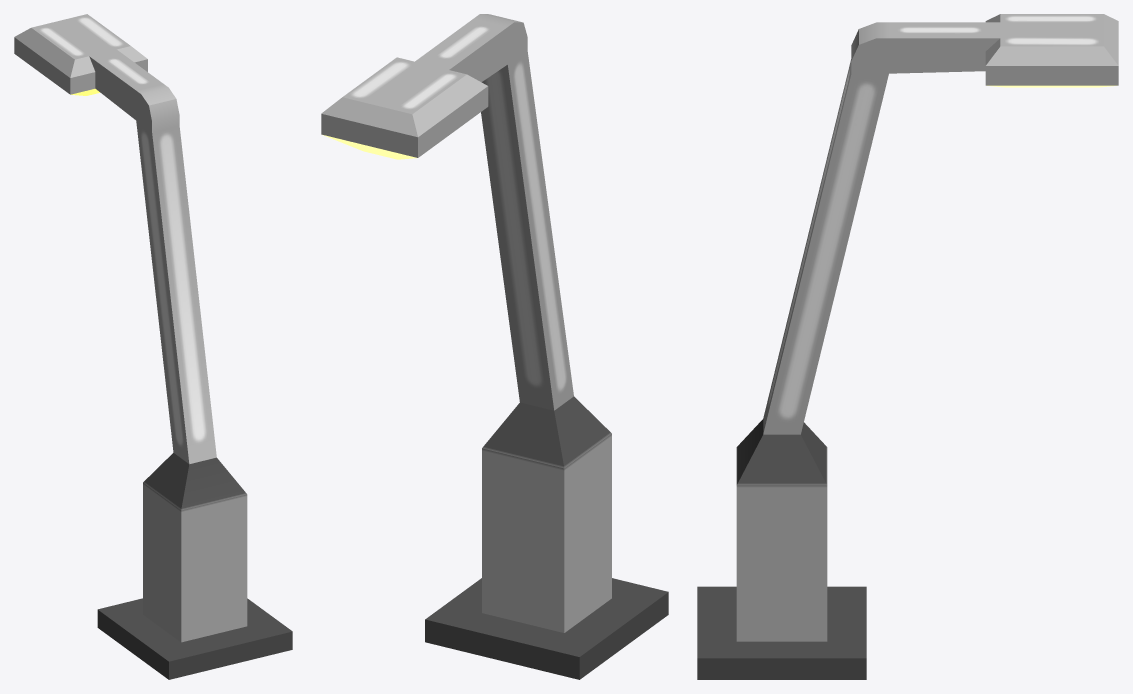
File: lamp.glb
3 renders of one model, left to right at view 1: azimuth 30°, elevation 25°; view 2: azimuth 150°, elevation 25°; view 3: azimuth 270°, elevation 25°, orthographic. The views are drawn at different scales.
Visible parts, largest first — view 1: structural_lamp; view 2: structural_lamp; view 3: structural_lamp.
Boxes of the visible parts, x1,y1,x2,y2 form: structural_lamp: [14, 14, 292, 679]; structural_lamp: [321, 14, 668, 679]; structural_lamp: [697, 14, 1118, 679].
Bounding box in the file's own units: 0.4297 × 1.72 × 1.07.
Materials: 2 (1 with a texture image).
